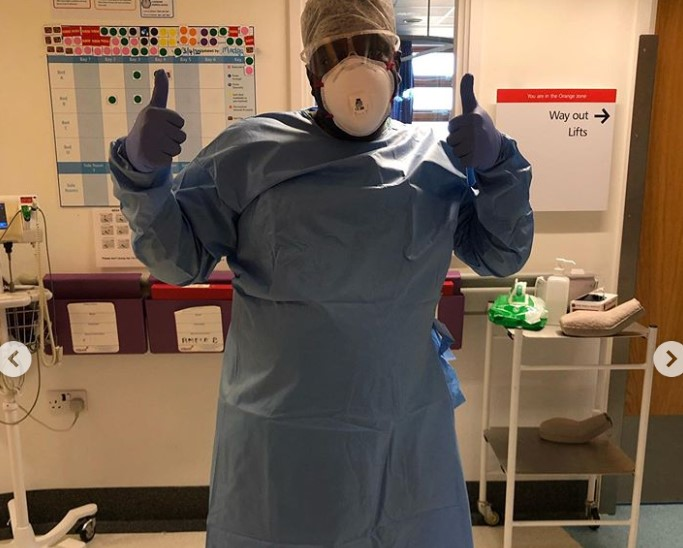face_with_mask: (291, 5, 408, 141)
